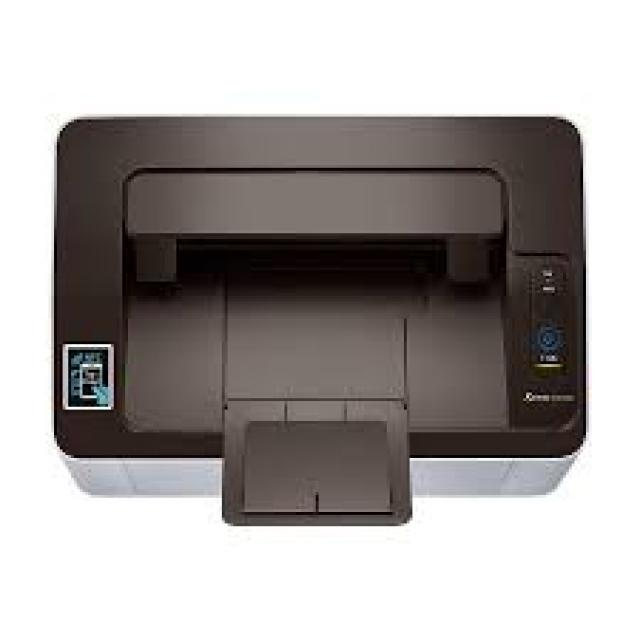printer: (51, 108, 591, 529)
